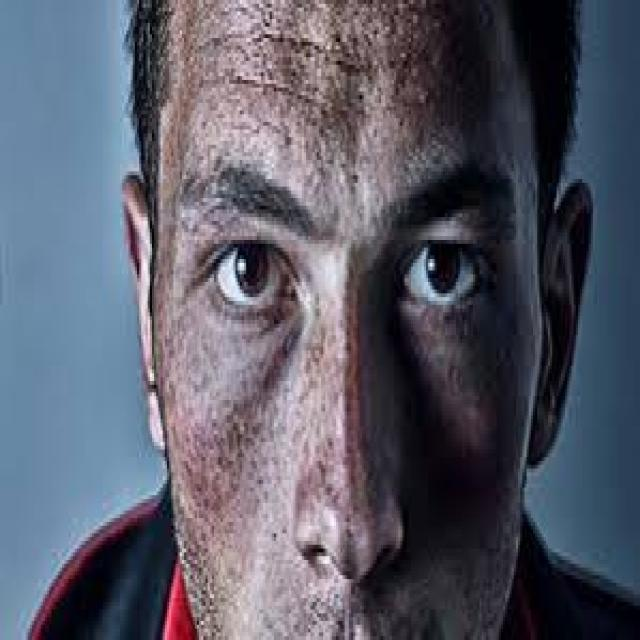pigmentation: (227, 9, 419, 134), (170, 359, 248, 593)
